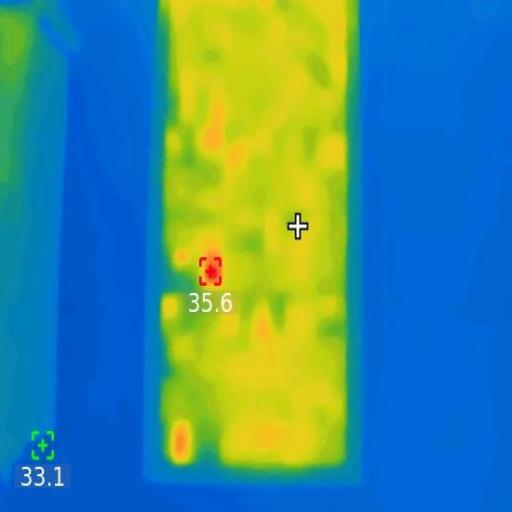hotspot: (206, 252, 221, 285)
